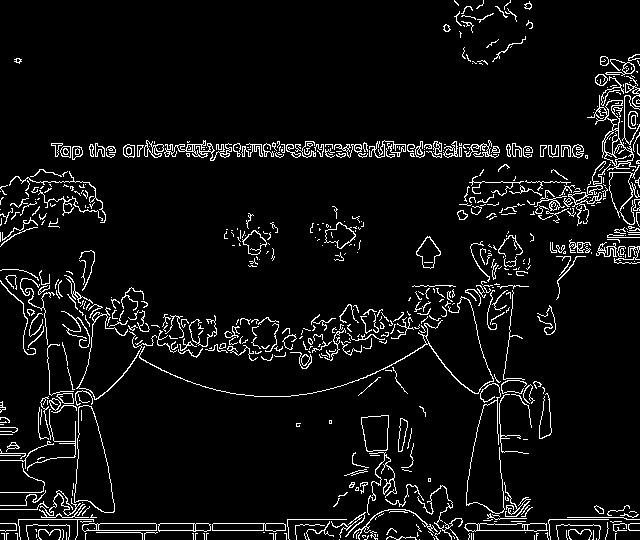right: (319, 218, 364, 254)
up: (410, 230, 448, 275), (492, 230, 524, 274), (236, 226, 272, 261)
